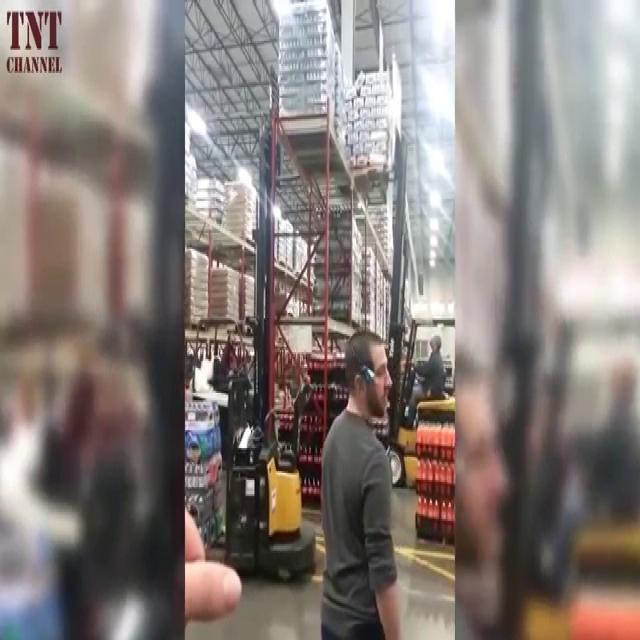forklift: (217, 219, 316, 578)
